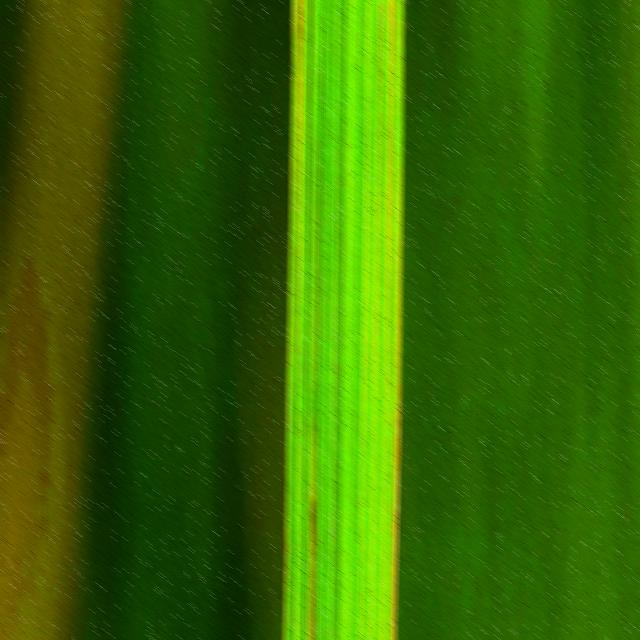BLS: (391, 256, 401, 640), (309, 452, 315, 640), (298, 0, 303, 174)
